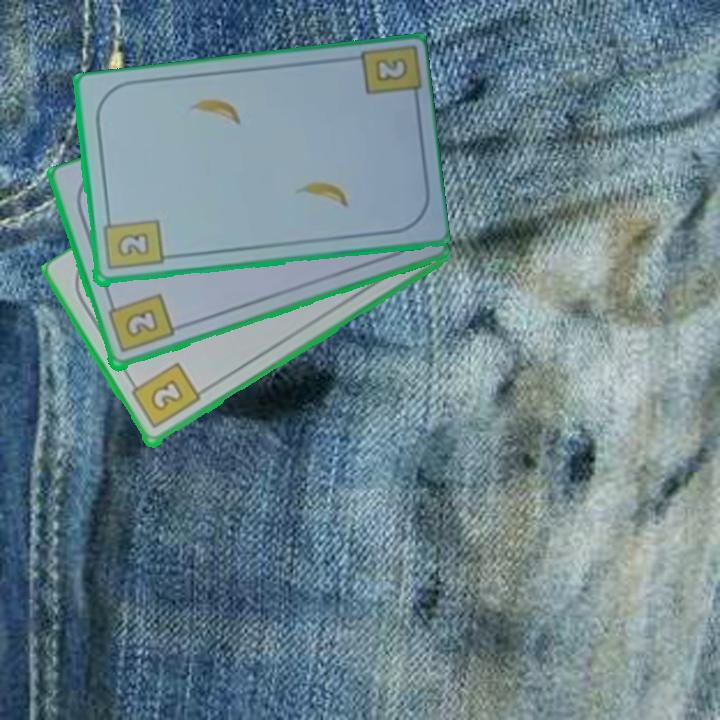2b: (125, 359, 203, 432), (104, 290, 176, 357), (99, 212, 165, 273), (371, 54, 411, 85)
